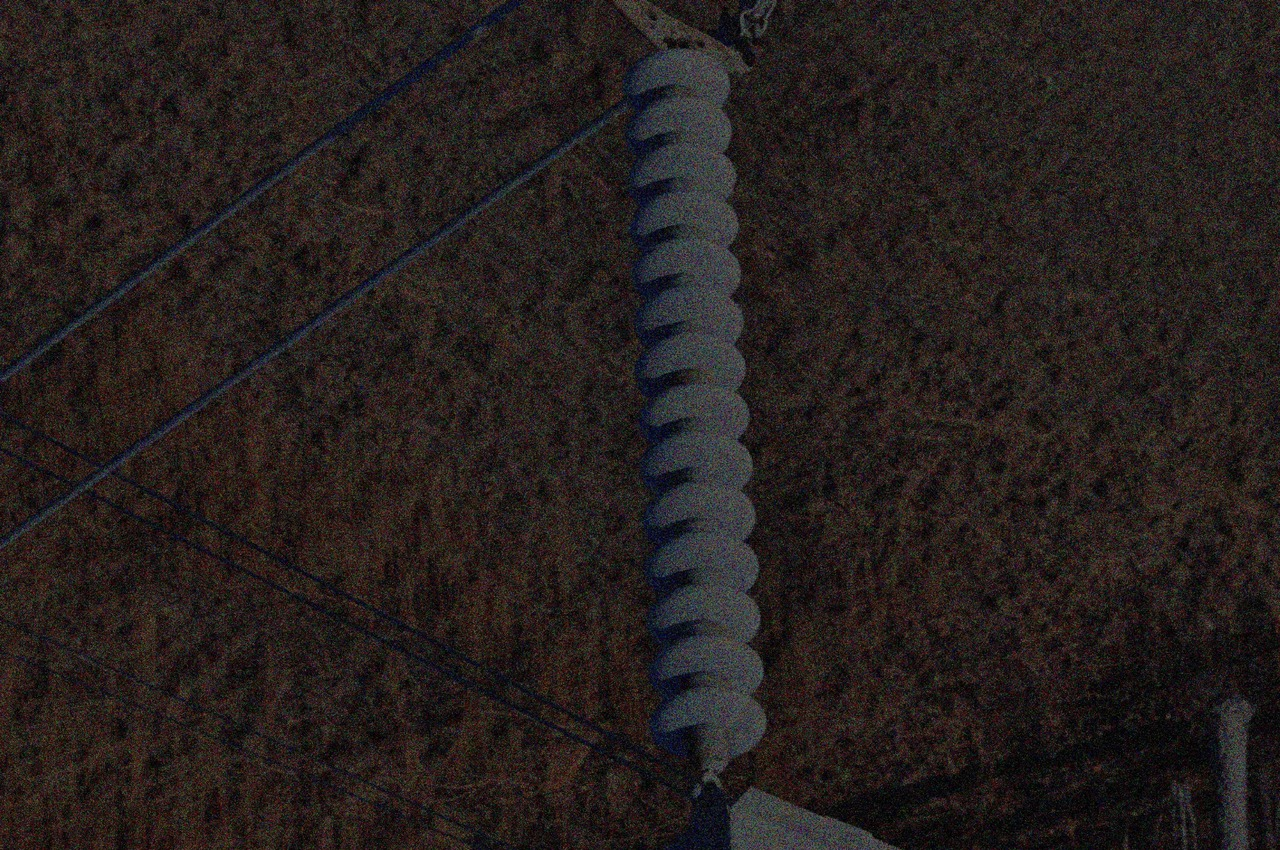Flashover damage: (647, 683, 767, 771), (644, 530, 764, 598), (642, 580, 762, 647), (630, 331, 751, 395), (628, 284, 749, 348), (647, 634, 766, 698)
No issues: (639, 479, 759, 546), (635, 430, 756, 494), (636, 383, 757, 447), (624, 236, 745, 300), (620, 140, 741, 204), (617, 46, 738, 110), (620, 189, 741, 252), (617, 96, 738, 159)
String: (616, 44, 767, 769)
